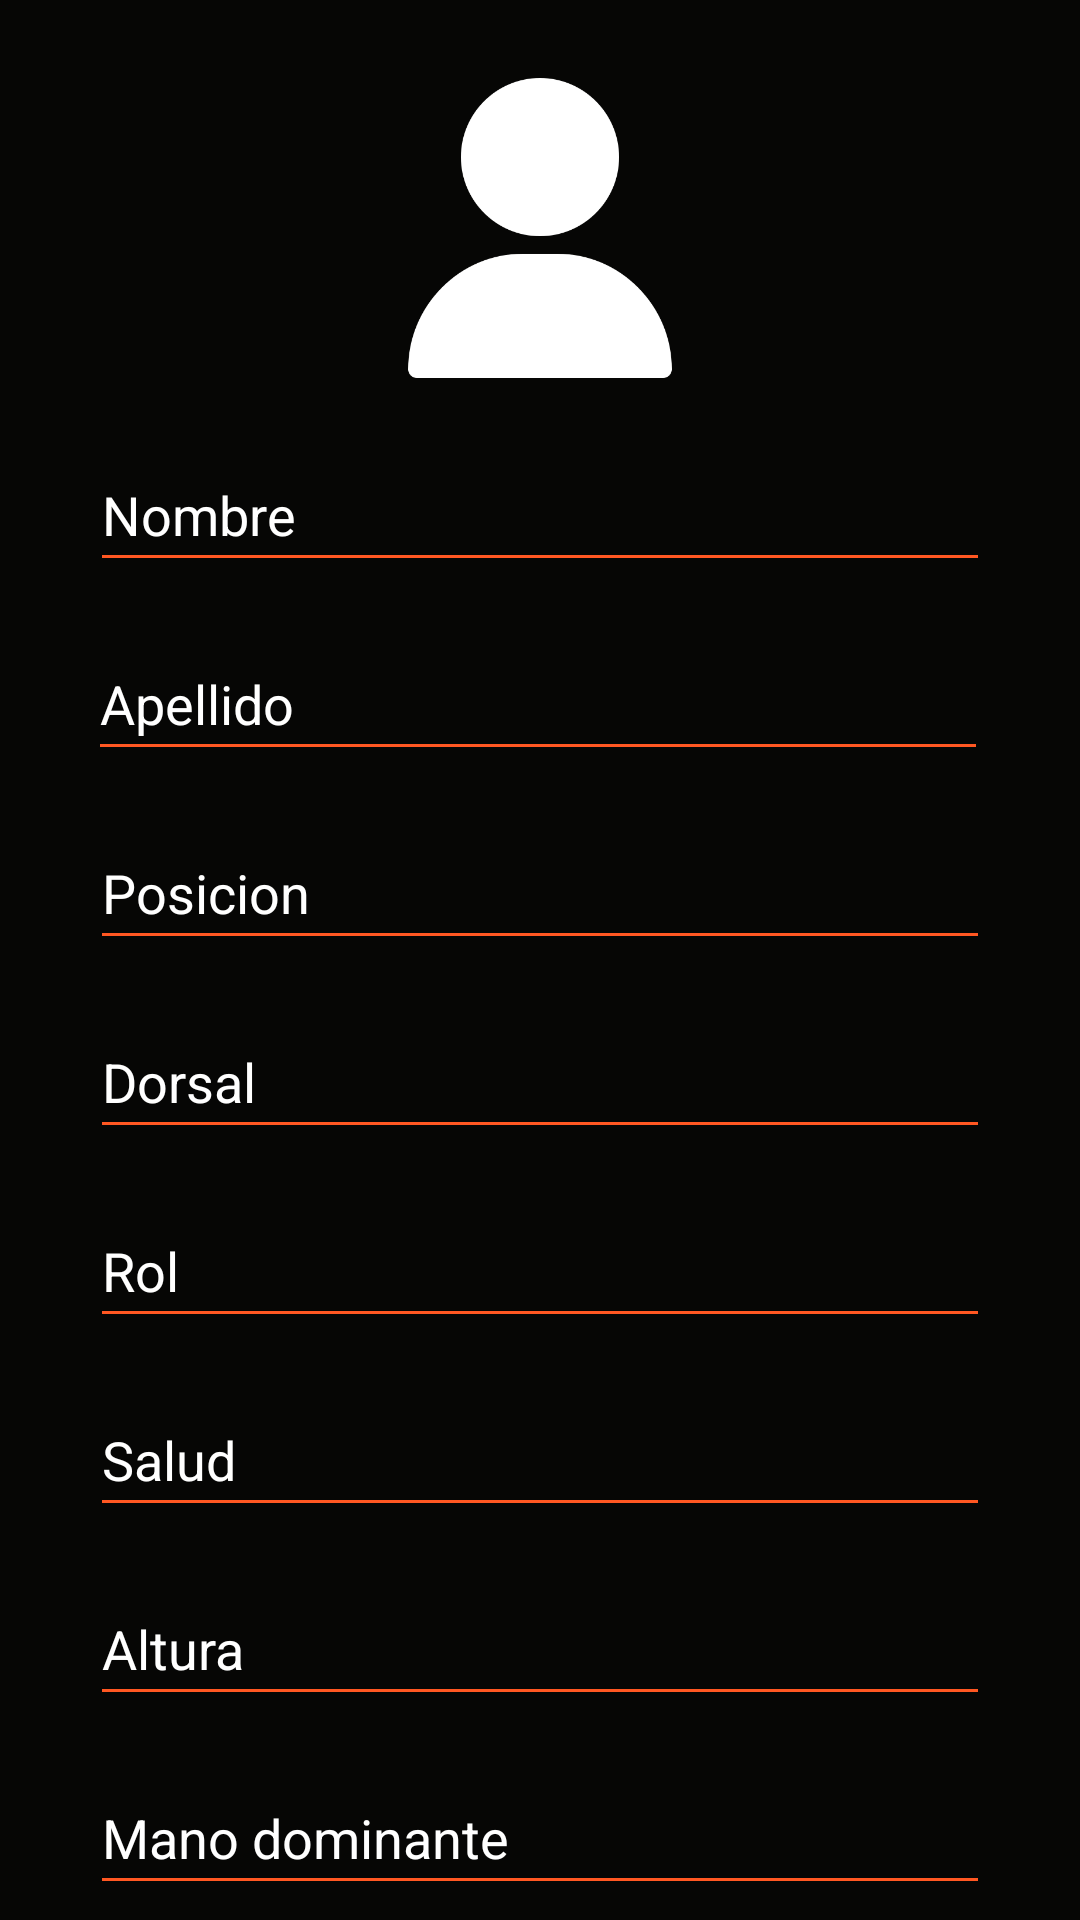

Where to tap for icons on this 1080*1920 app screen, as (x,y):
usuario: (540,228)
